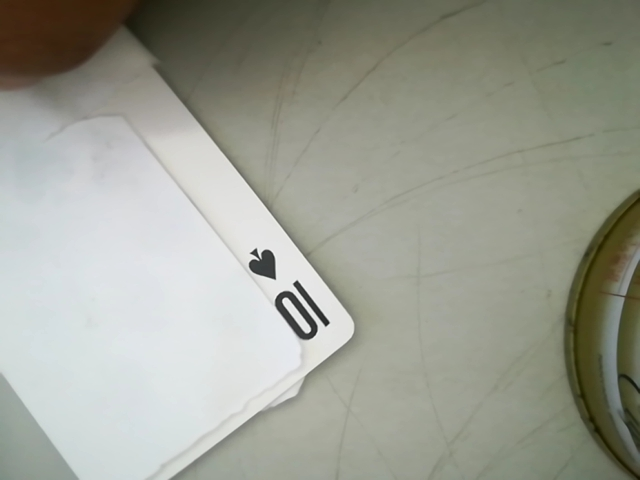ht 10: (242, 241, 340, 357)
